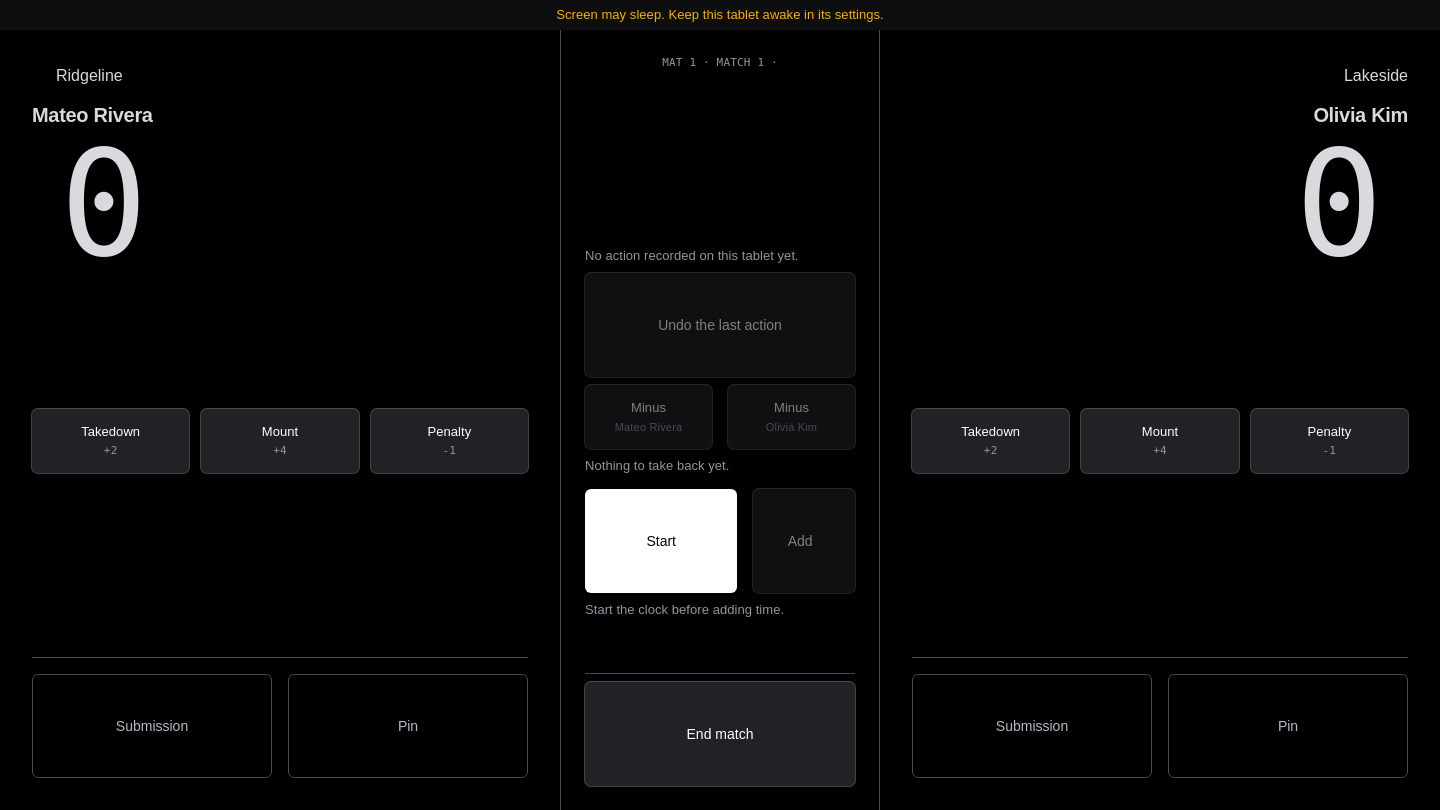
ScorerPage › rolls a refused tap back and prints why it was refused
The image size is (1440, 810).
What coordinates should you click on to do the following:
click the 1st button "Takedown +2"
I would click on:
 (111, 441)
Its box is x1=32 y1=409 x2=189 y2=473.
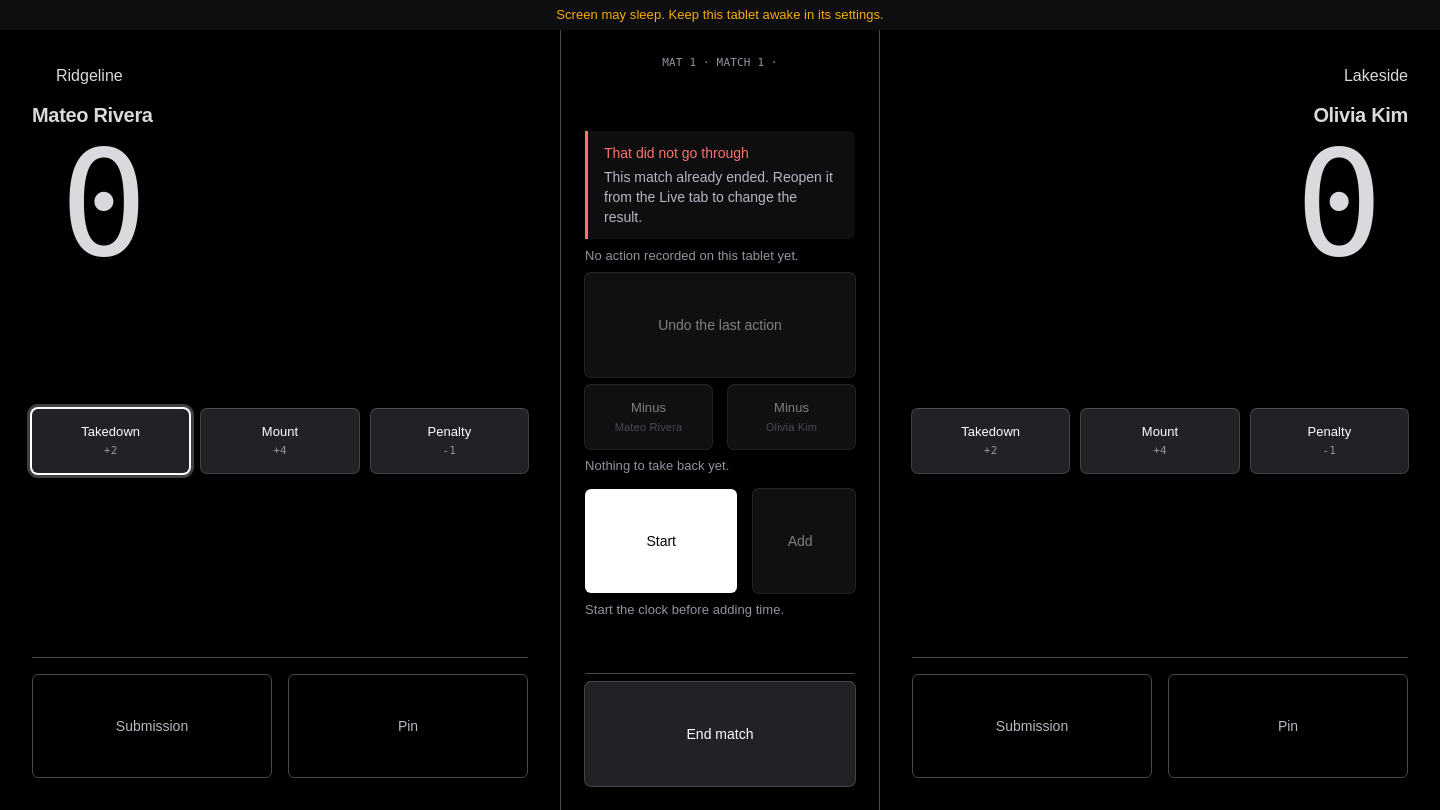
Expected: the text "0" below "Ridgeline" is shown, x1=60 y1=120 x2=145 y2=289
Now the text "Reopen it from the Live tab" is shown, box x1=604 y1=169 x2=833 y2=225
